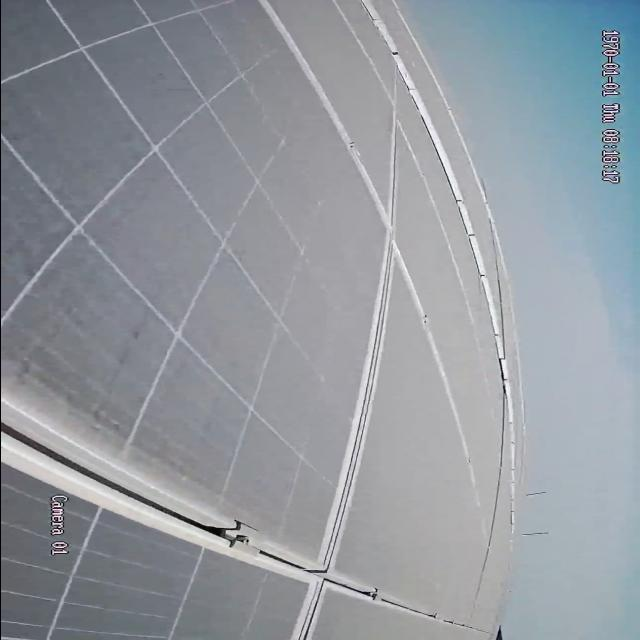interior panel: (1, 4, 461, 640)
